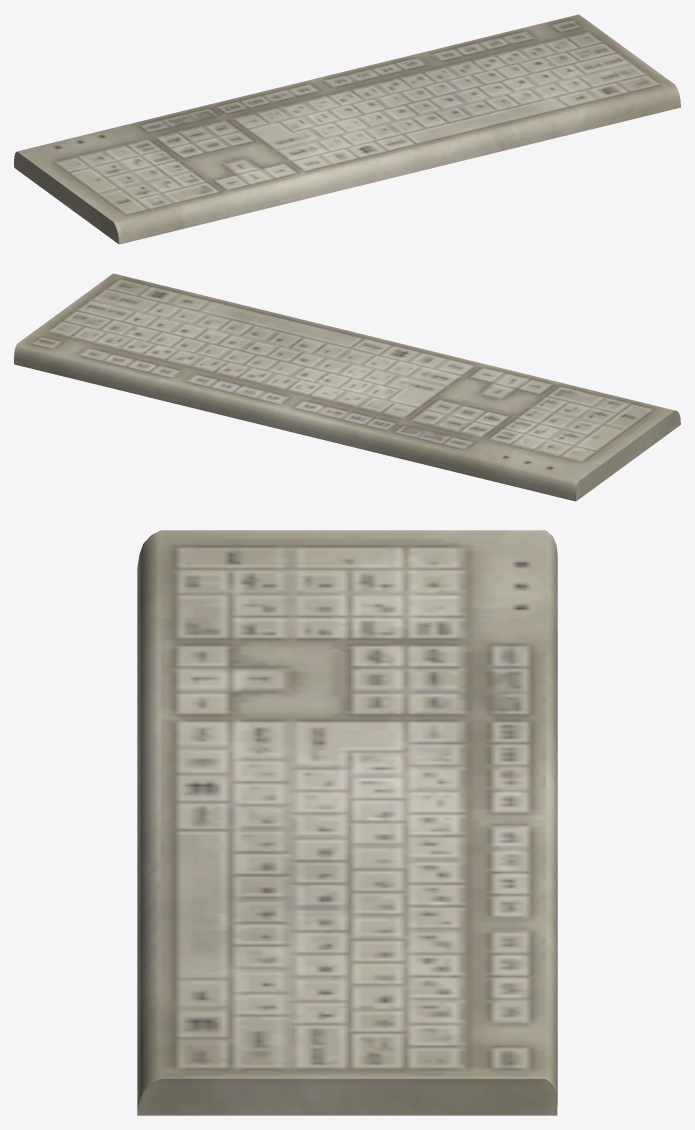
File: propKeyboard.fbx
The picture shows the model from 3 angles, top to bottom: view 1: azimuth 30°, elevation 25°; view 2: azimuth 150°, elevation 25°; view 3: azimuth 270°, elevation 25°; orthographic projection. The views are drawn at different scales.
Parts seen in each view (by area): view 1: propKeyboard; view 2: propKeyboard; view 3: propKeyboard.
Part boxes in pixels (<box>): propKeyboard: <box>14,14,680,244</box>; propKeyboard: <box>14,273,680,501</box>; propKeyboard: <box>137,530,557,1115</box>.
Size of the model in its own units: 52.09 by 1.64 by 16.87.
1 material, 1 textured.
